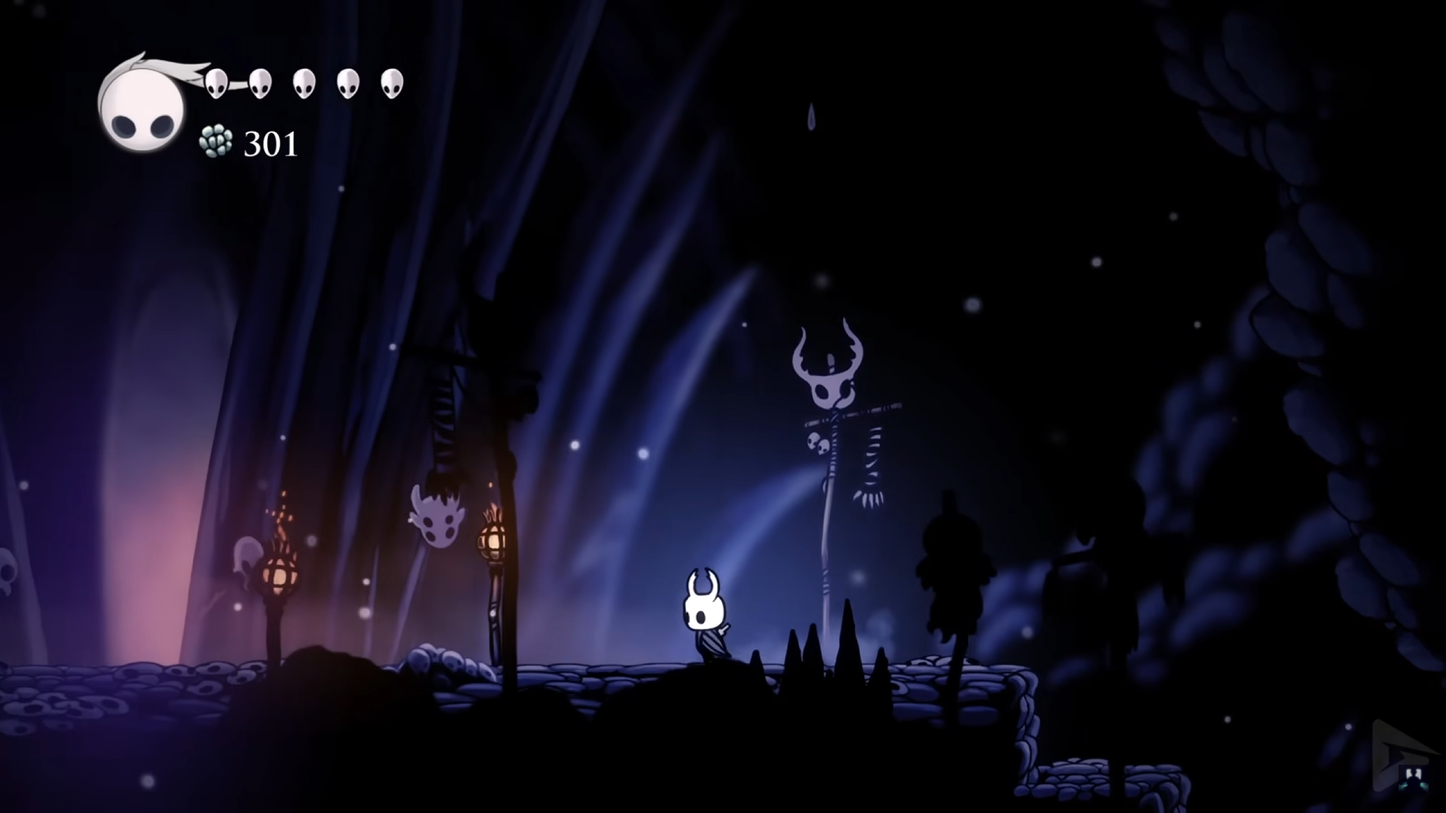HK: (678, 563, 733, 666)
